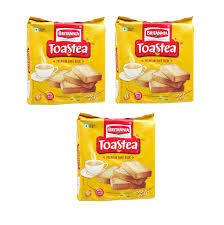Britania-toast-small: (74, 114, 158, 204), (26, 15, 107, 107), (117, 15, 195, 106)
